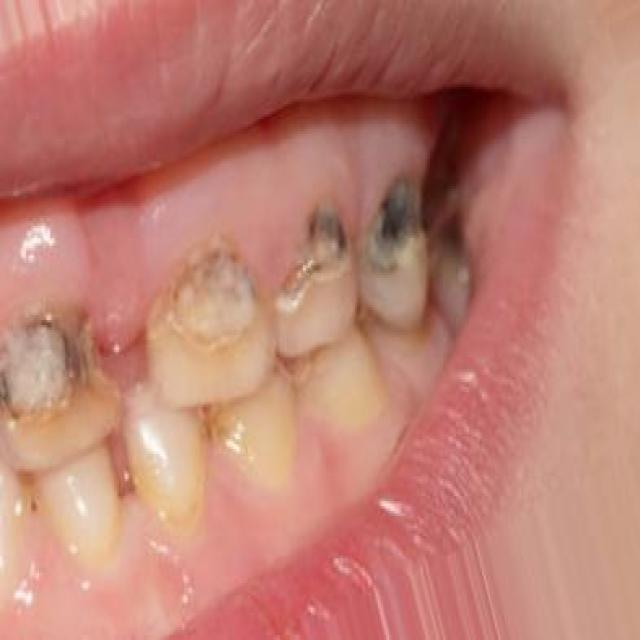caries: (0, 288, 118, 434), (154, 220, 264, 364), (270, 194, 356, 318), (362, 166, 428, 293)
